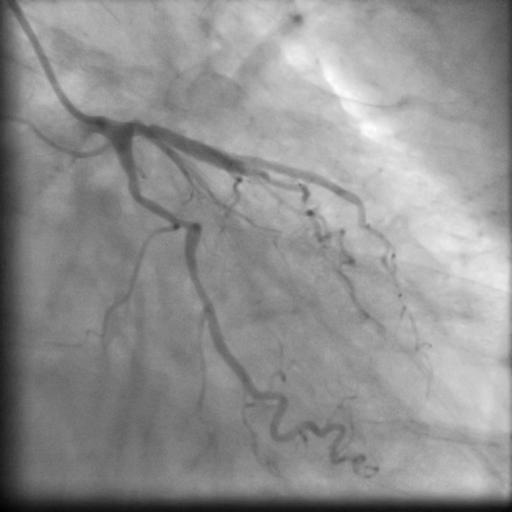Stenosis: (161, 201, 193, 235)
